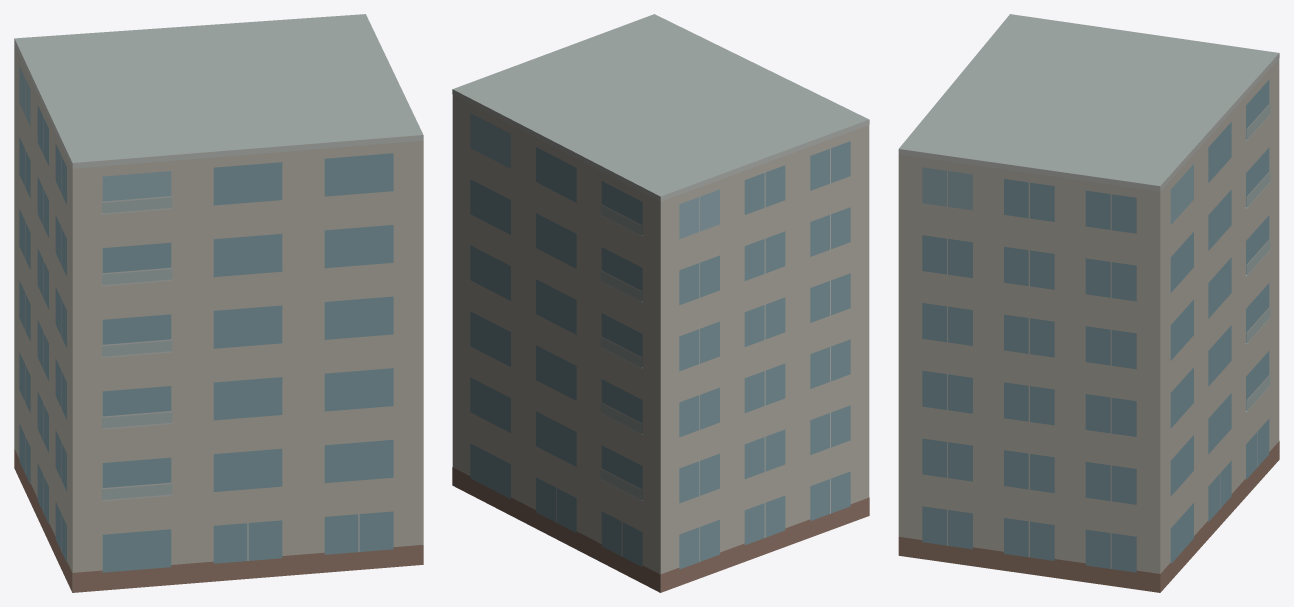
The model's file is survey-upis-32884110.glb.
3 views of the same model, side by side, from view 1: azimuth 30°, elevation 25°; view 2: azimuth 150°, elevation 25°; view 3: azimuth 270°, elevation 25° (orthographic). The views are drawn at different scales.
Parts seen in each view (by area): view 1: survey-upis-32884110.tmp; view 2: survey-upis-32884110.tmp; view 3: survey-upis-32884110.tmp.
Part boxes in pixels (left/top/right/bottom): survey-upis-32884110.tmp: left=14, top=14, right=423, bottom=592; survey-upis-32884110.tmp: left=452, top=14, right=869, bottom=592; survey-upis-32884110.tmp: left=898, top=14, right=1279, bottom=592.
Bounding box in the file's own units: 16.62 × 18.3 × 15.54.
